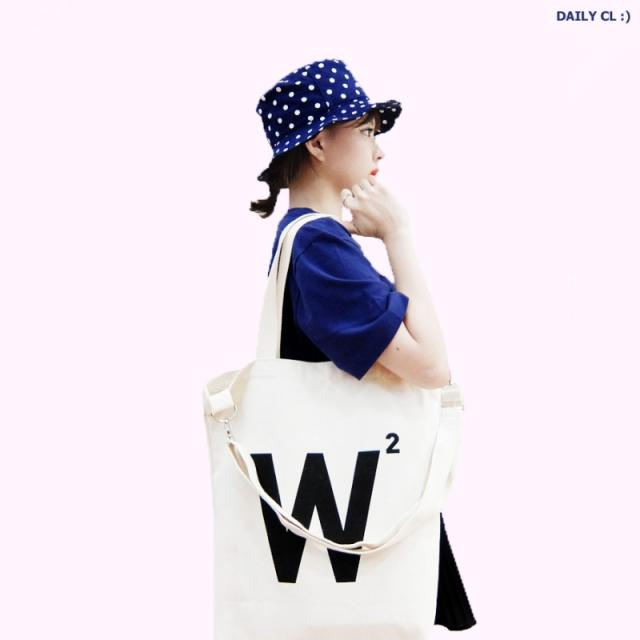ecobag: (195, 208, 470, 640)
